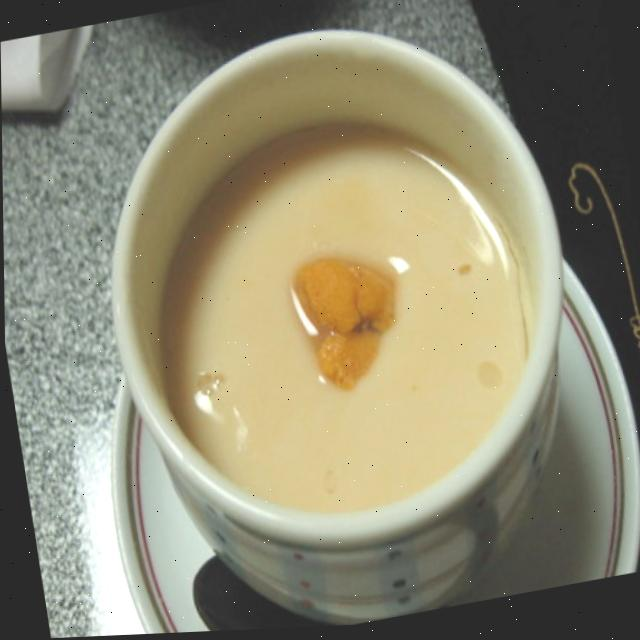鸡蛋料理: (89, 50, 593, 586)
